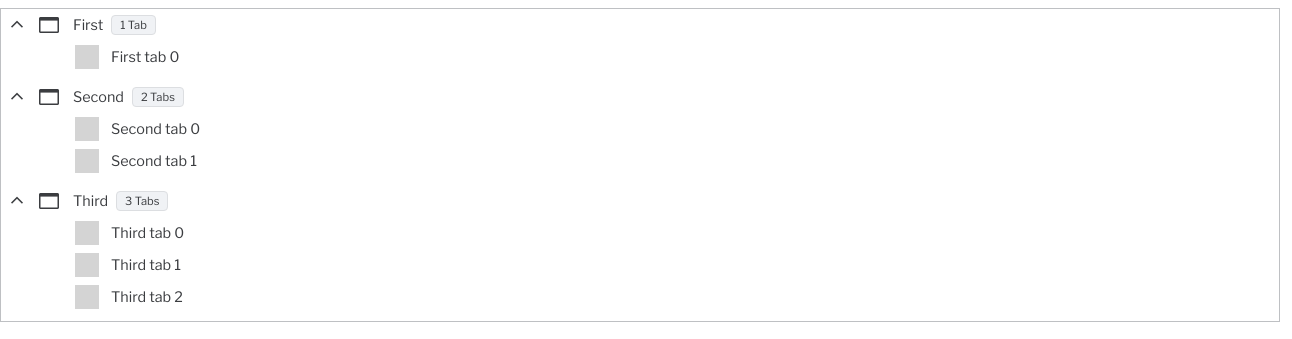
Test: a window drag does not also rename the window › CONTROL: a plain click on the title opens the editor
This screenshot has width=1292, height=339.
Click the button "Second". click: (97, 97)
box: [65,81,130,113]
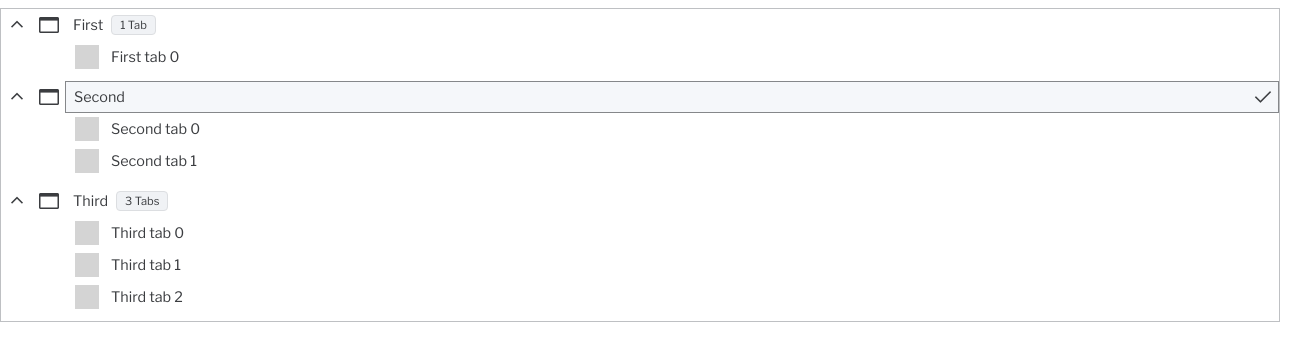
Check: the field is shown, box [65,81,1279,113]
